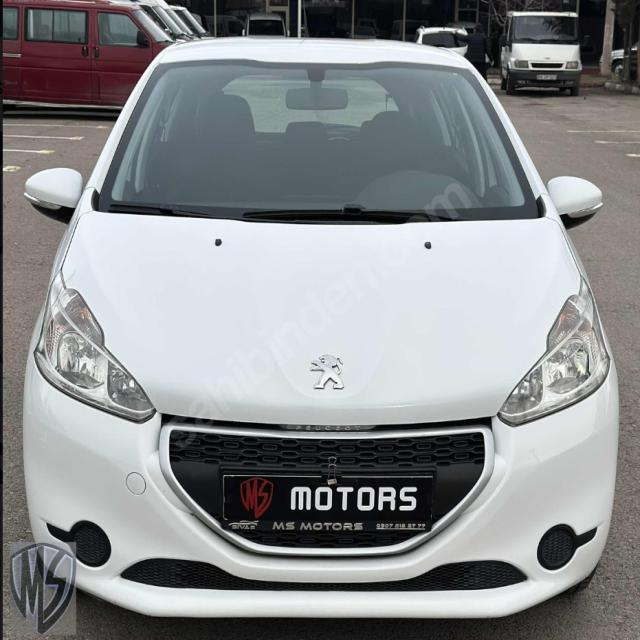pegout: (302, 349, 350, 396)
